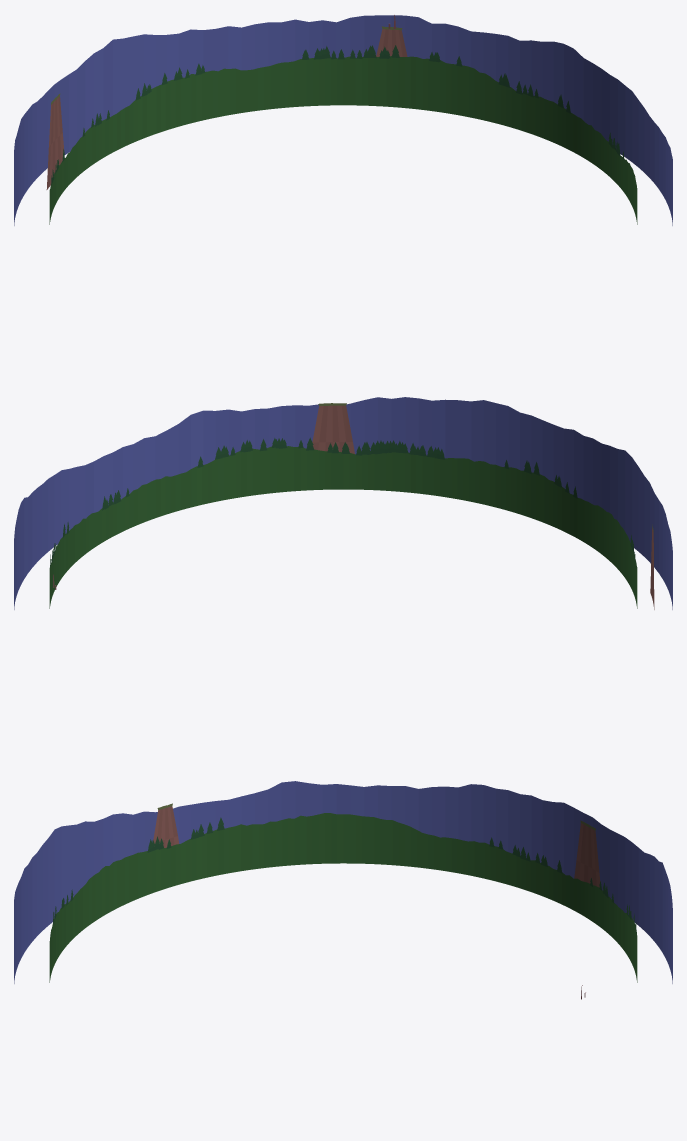
File: skyline_ring_low.glb
3 views of the same model, one above another, from view 1: azimuth 30°, elevation 25°; view 2: azimuth 150°, elevation 25°; view 3: azimuth 270°, elevation 25° (orthographic).
Parts seen in each view (by area): view 1: skyline_ring_low; view 2: skyline_ring_low; view 3: skyline_ring_low.
Part boxes in pixels (x1,y1,x2,y2): skyline_ring_low: [14, 15, 672, 225]; skyline_ring_low: [14, 397, 672, 609]; skyline_ring_low: [14, 781, 672, 999].
Bounding box in the file's own units: 740 × 113 × 740.
